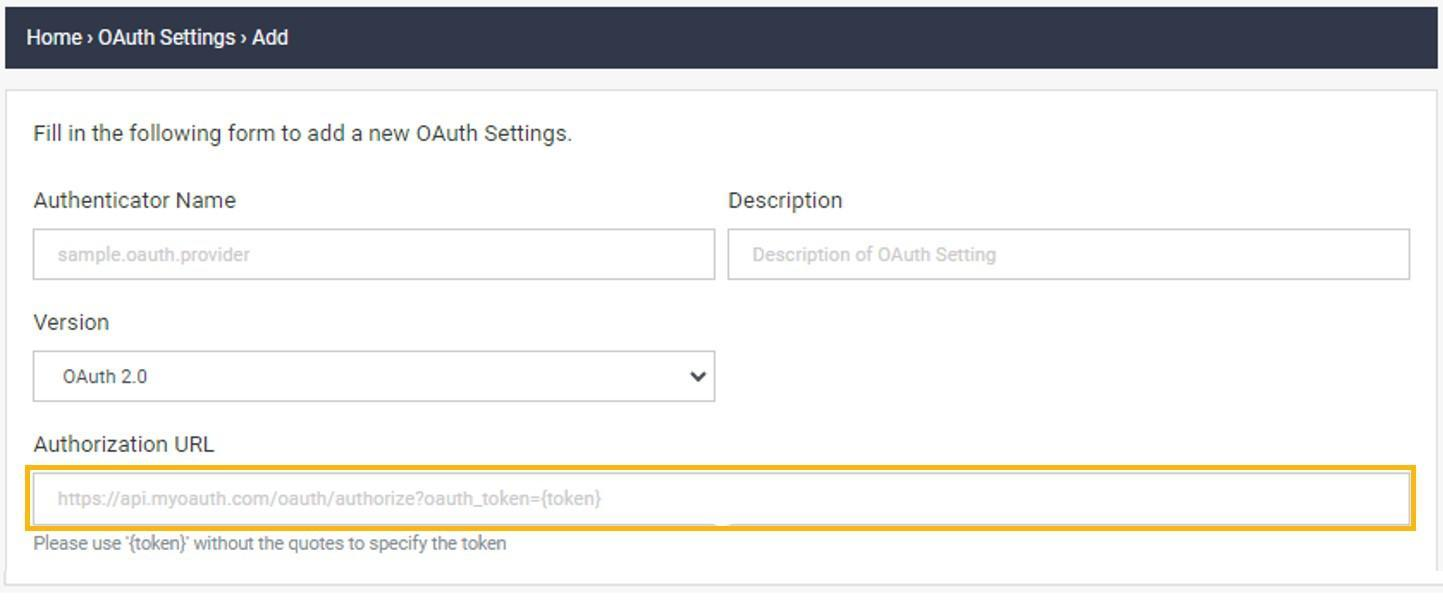dropdown: (35, 351, 717, 402)
input: (26, 468, 1414, 533), (728, 230, 1409, 281), (32, 230, 717, 279)
label: (31, 426, 220, 458), (30, 191, 249, 217), (726, 186, 846, 219), (31, 304, 120, 340)
